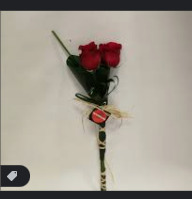RedRose: (74, 35, 102, 74), (100, 36, 129, 70)
